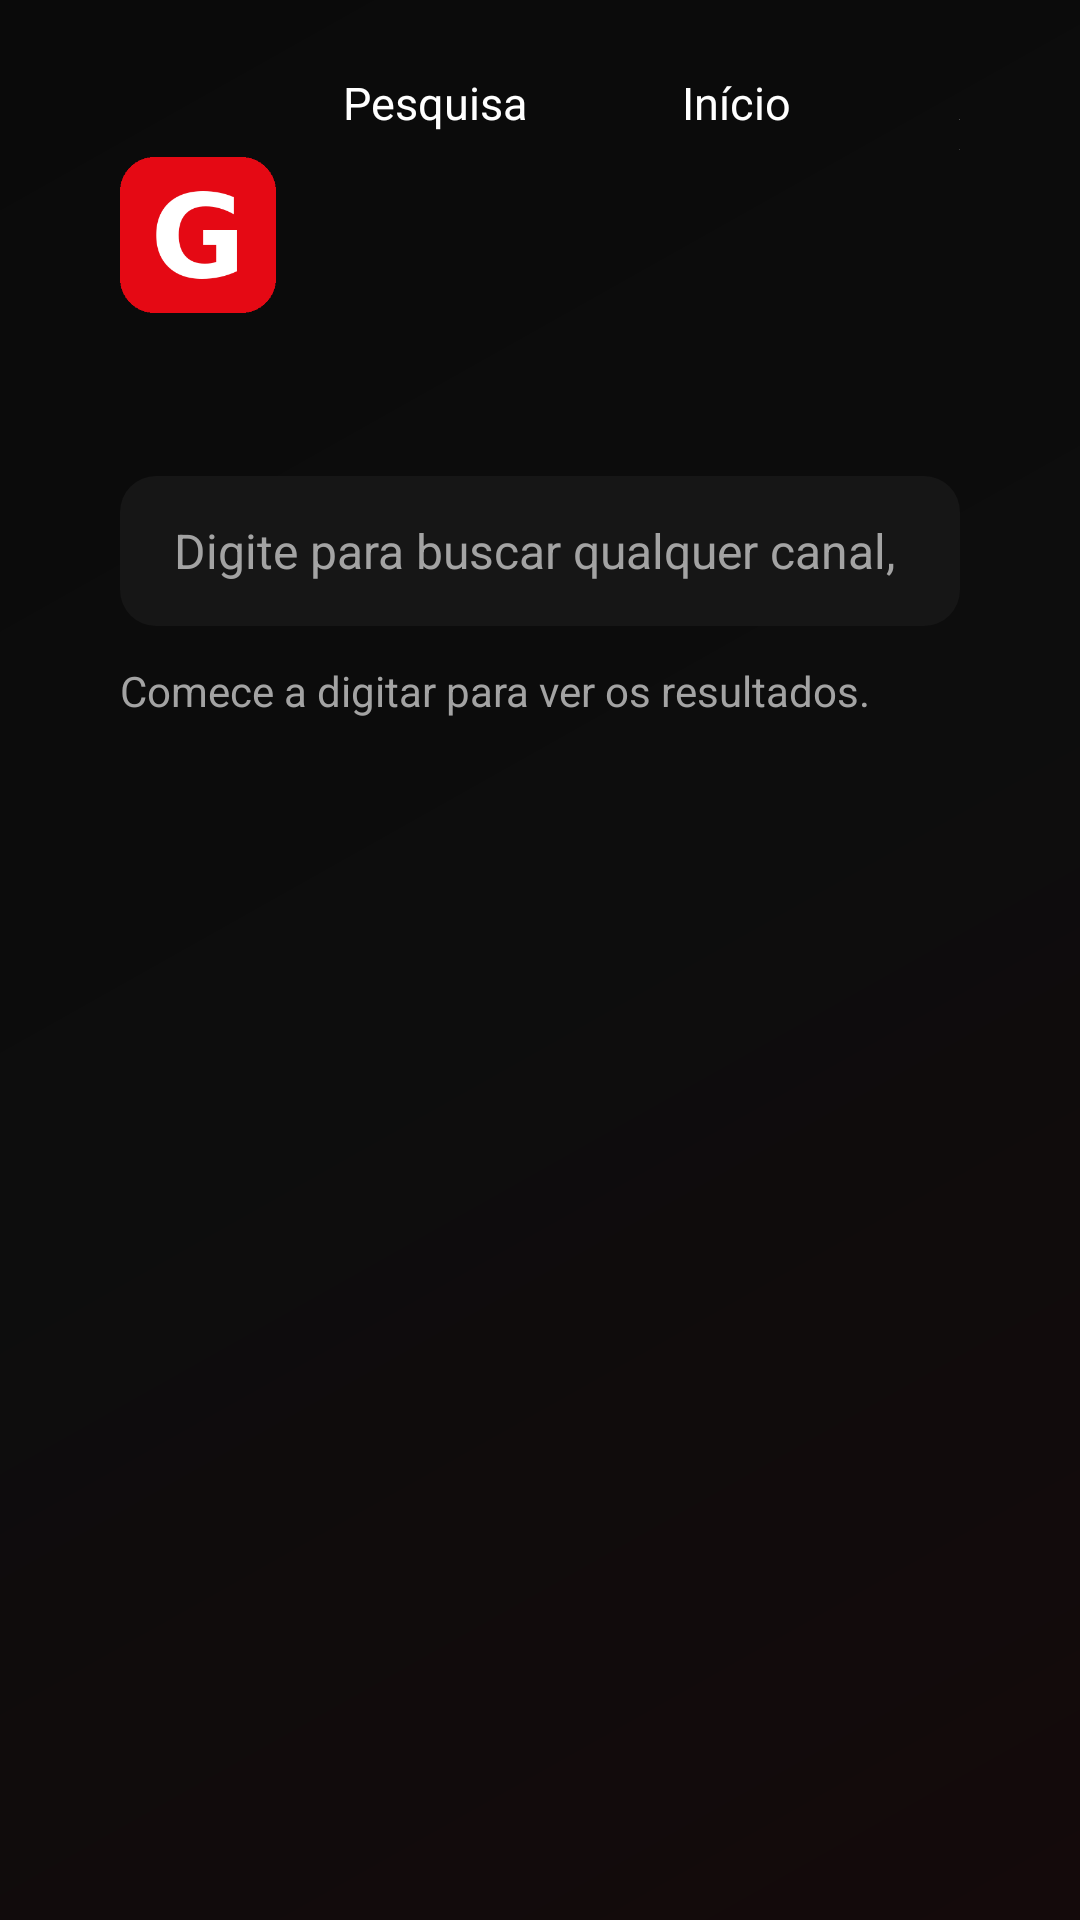

Icon click points for this 1080*1920 phone screenshot, format [x,y]:
gamaflix: [198,235]
